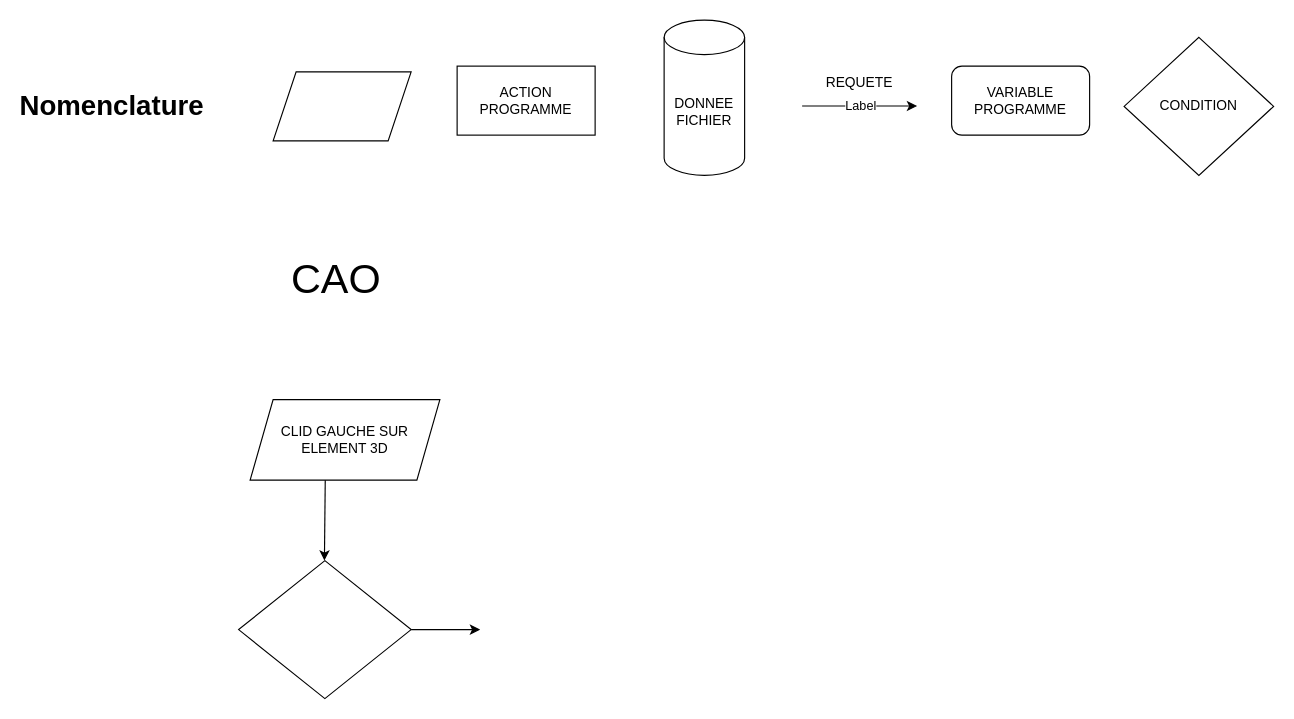
Image size: 1294x719. Some labels were removed from this diagram. Here are the shapes that lost their labels. From the top down, the centre of each, then its label:
At (341,106): "ACTION UTILISATEUR".
At (324,629): "EST CE QU UNE FONCTION EST SELECTIONNE".
